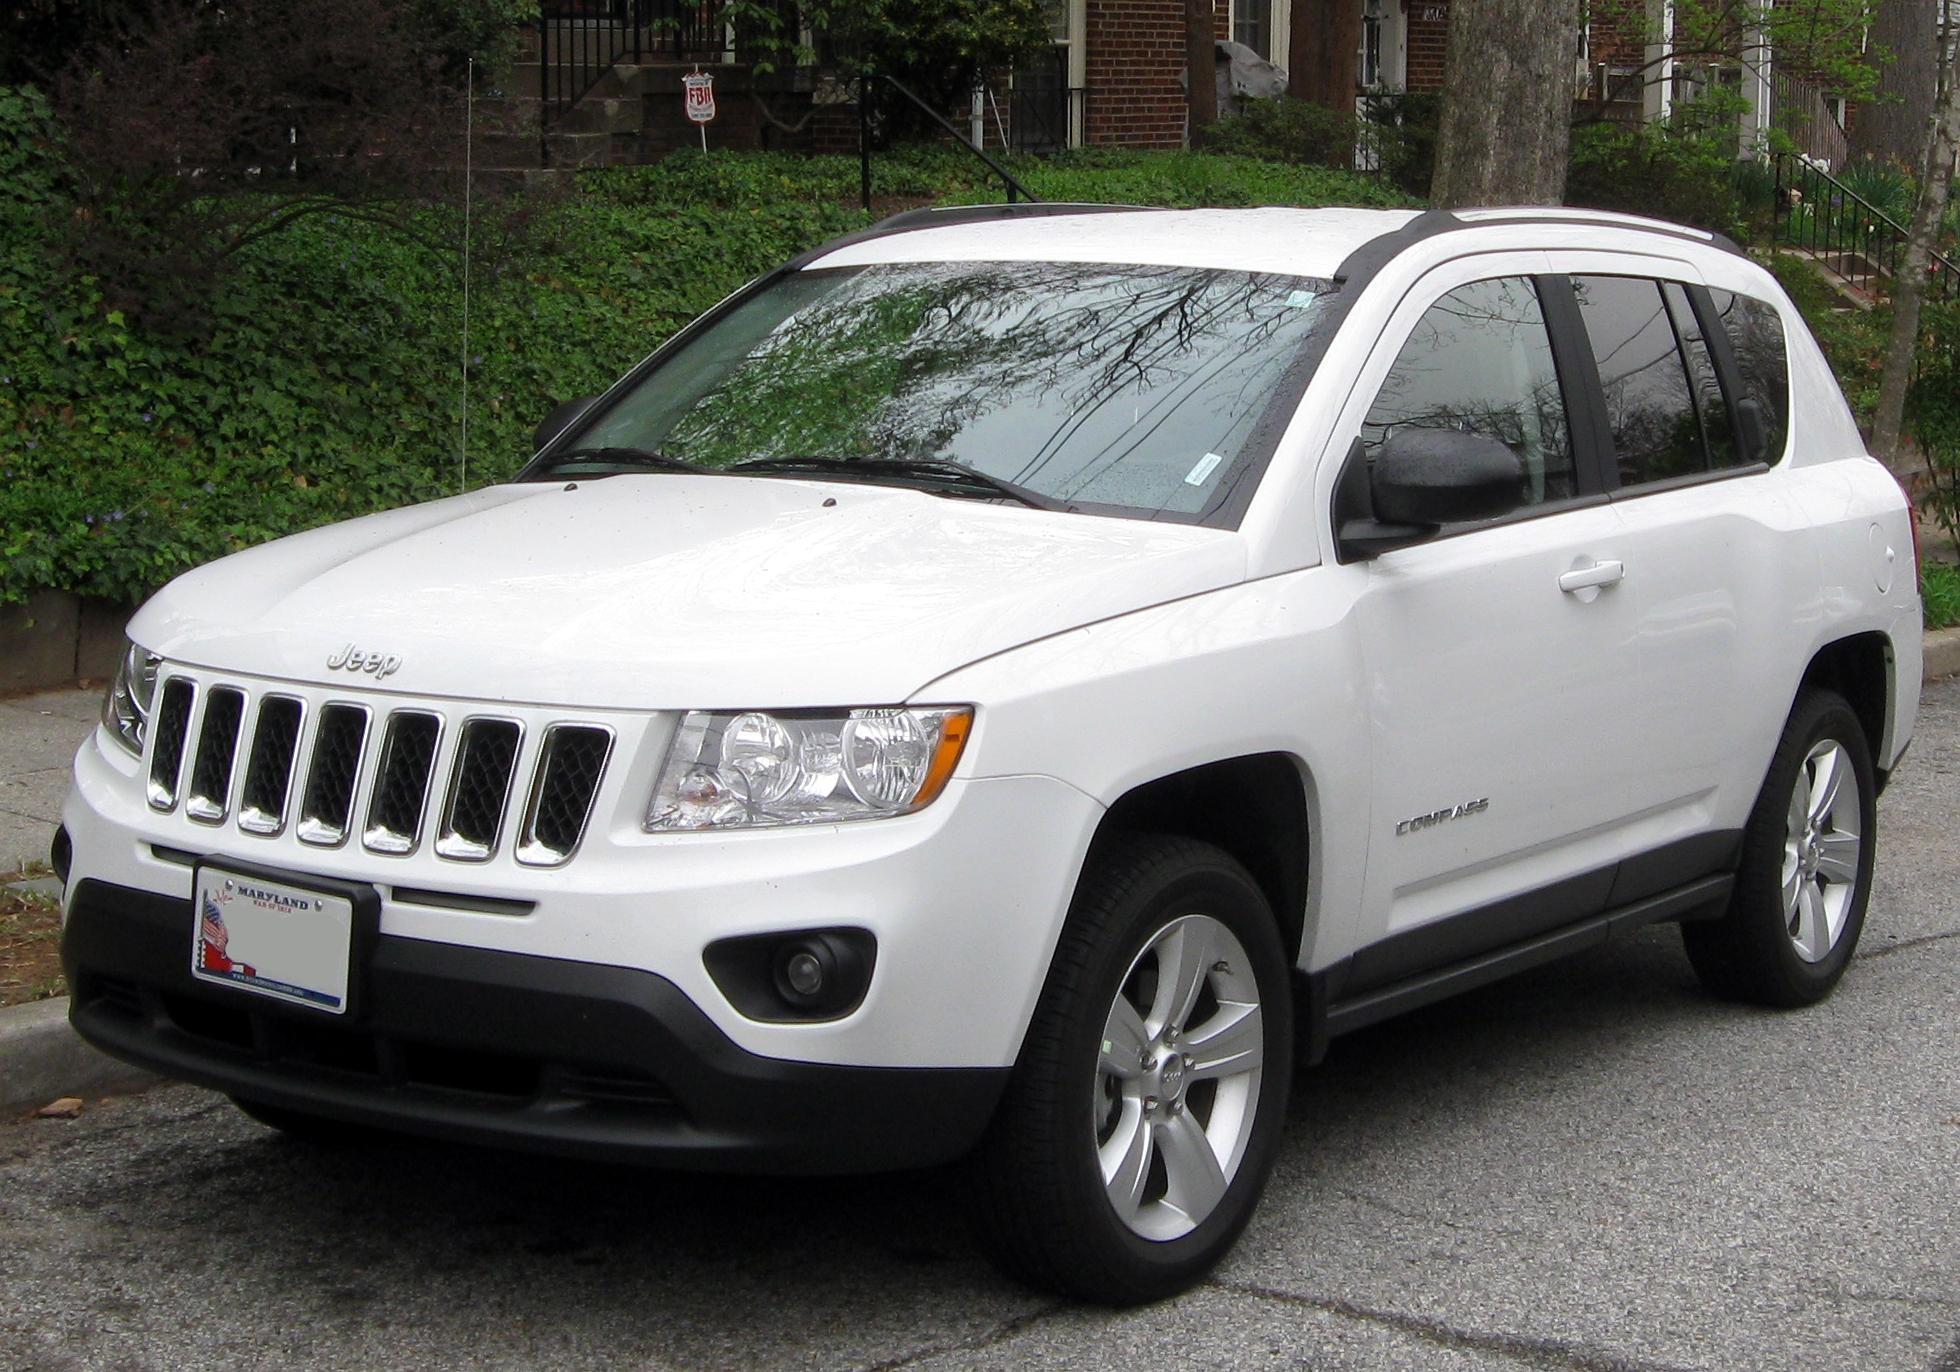jeep: (307, 633, 433, 724)
